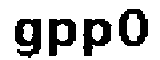0: (117, 3, 150, 50)
g: (10, 15, 43, 60)
p: (45, 15, 79, 60), (82, 15, 115, 60)
